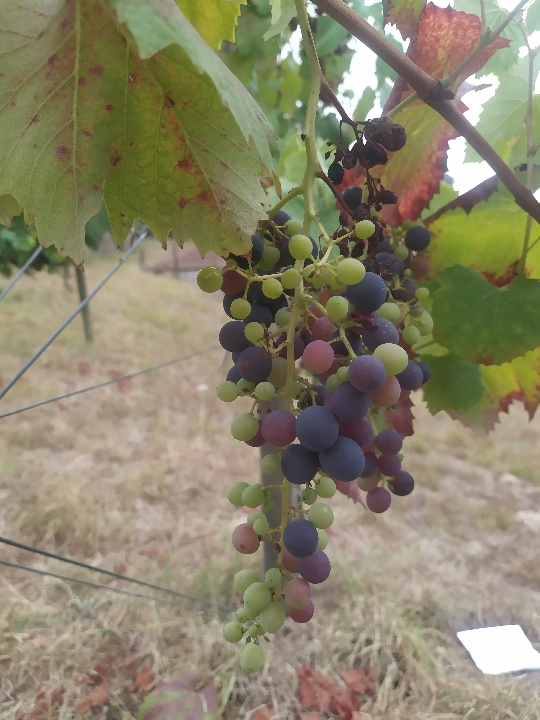grape: (195, 208, 434, 679), (321, 118, 410, 258)
